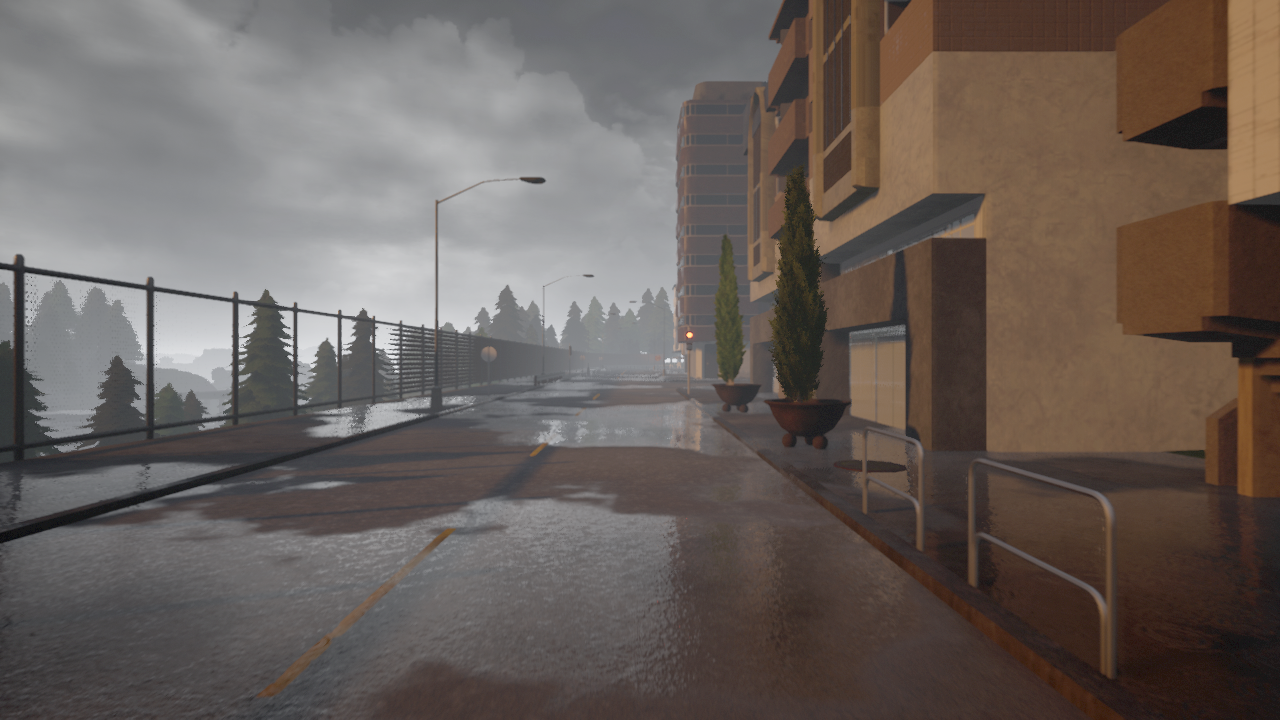red: (686, 330, 693, 351)
